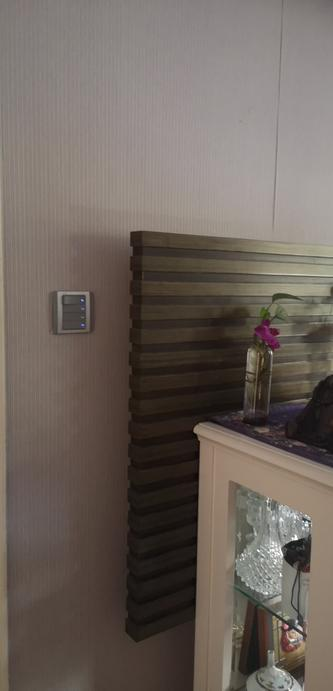switch: (63, 307, 103, 317), (63, 293, 93, 304), (64, 321, 94, 332)
